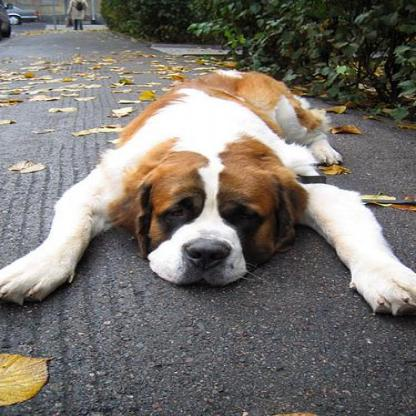Saint_Bernard: (0, 67, 413, 317)
